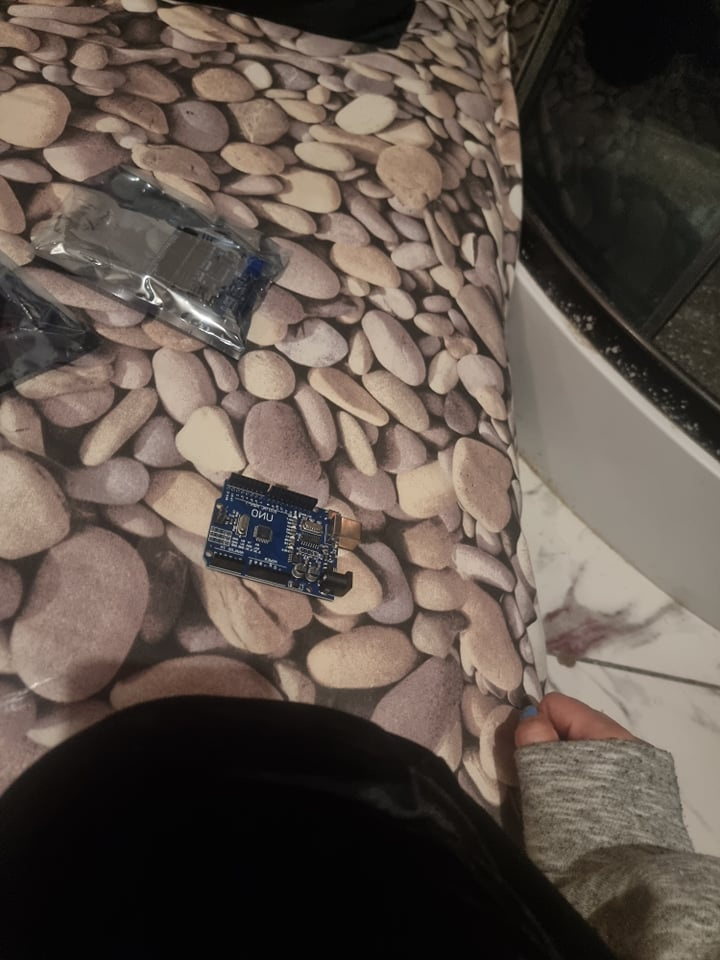UNO R3: (199, 471, 362, 600)
